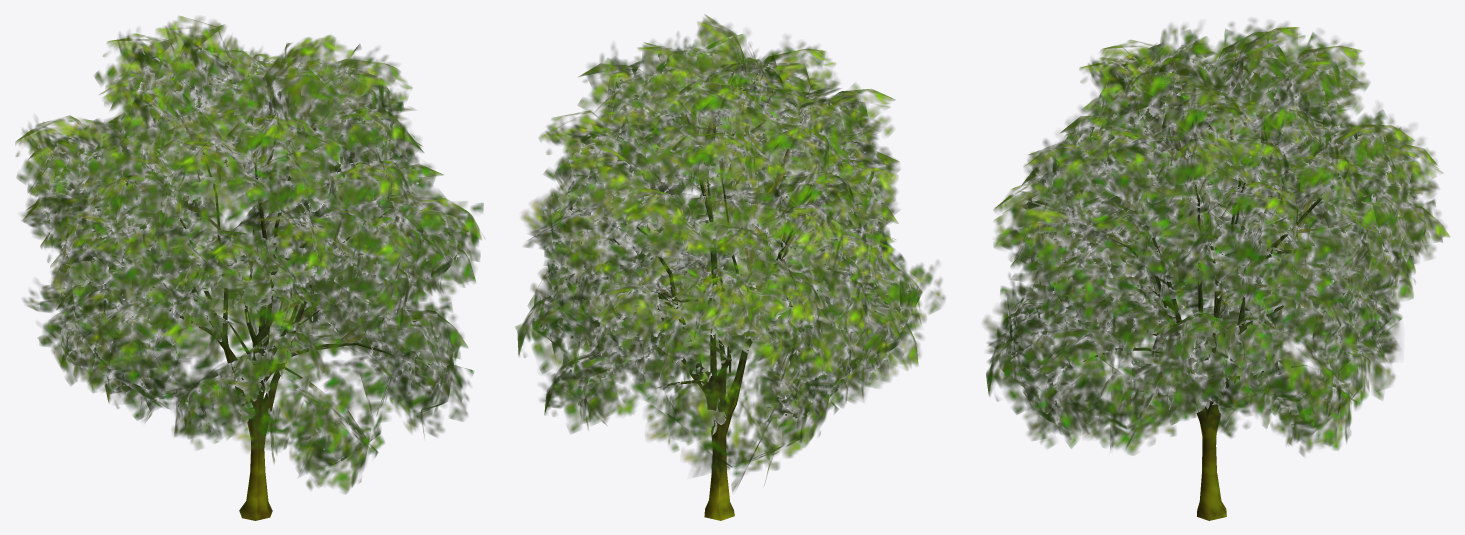
Rendered from tree.obj.
3 views of the same model, side by side, from view 1: azimuth 30°, elevation 25°; view 2: azimuth 150°, elevation 25°; view 3: azimuth 270°, elevation 25° (orthographic).
Parts seen in each view (by area): view 1: AM113_062_Tilia26; view 2: AM113_062_Tilia26; view 3: AM113_062_Tilia26.
Part boxes in pixels (x1,y1,x2,y2): AM113_062_Tilia26: [15, 16, 484, 520]; AM113_062_Tilia26: [515, 14, 945, 520]; AM113_062_Tilia26: [983, 19, 1449, 520].
Size of the model in its own units: 55.92 by 65.86 by 58.79.
